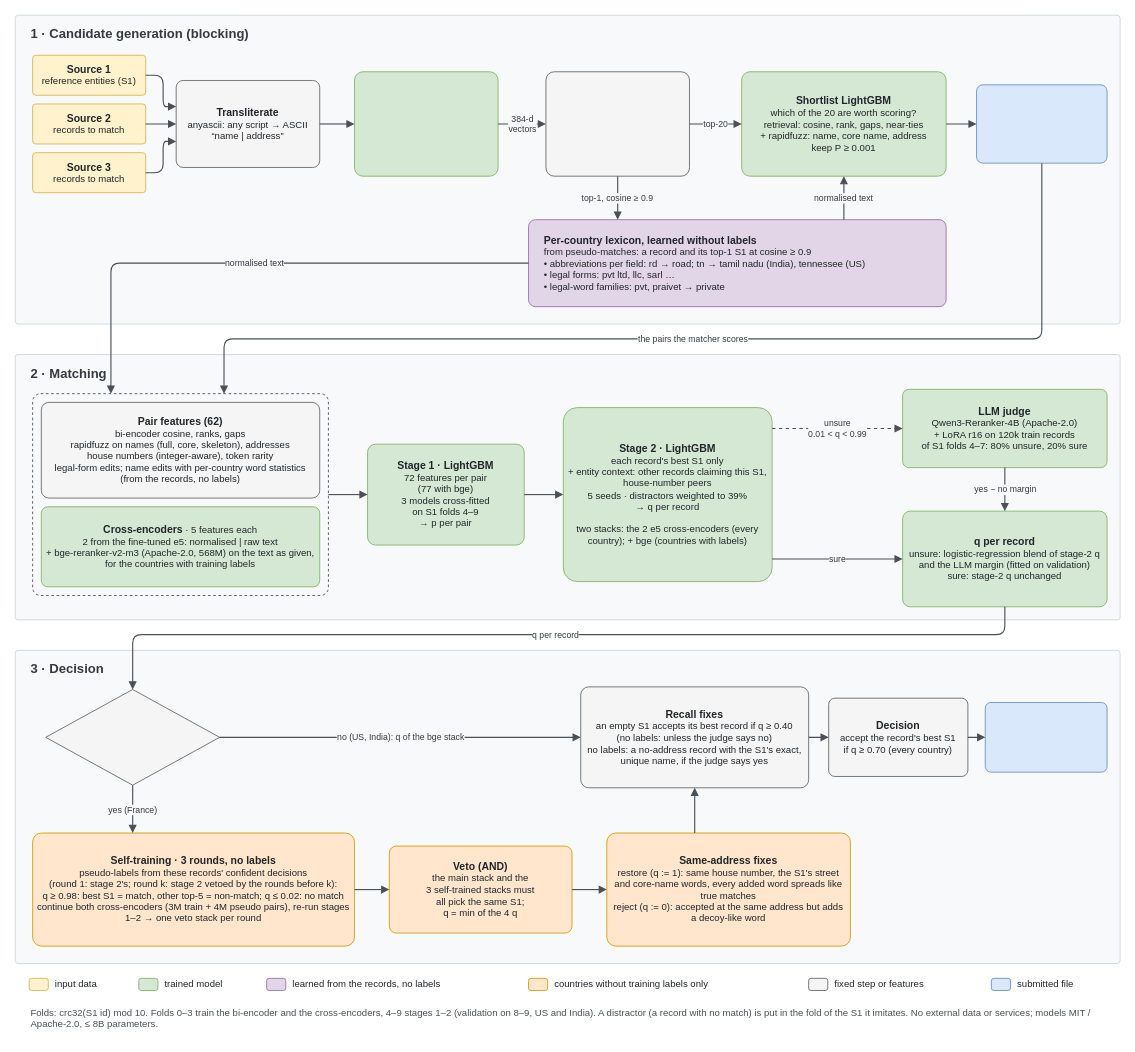
Some shapes in this 1135 by 1052 pixel diagram are drawn without their labels. Each missing label, with the box of its shape:
candidate_pairs.tsv 12.76M pairs 7.37 per S1 1.28 per S2/S3 record: (976, 84, 1107, 163)
Country without training labels? (found from the data): (45, 689, 220, 785)
e5 bi-encoder multilingual-e5-small (MIT, 118M) fine-tuned on S1 folds 0–3: (354, 71, 498, 176)
FAISS HNSW one index per country M 32 · efSearch 512 top-20 S1 per S2/S3 record: (545, 71, 689, 176)
matching_results.tsv one row per S1: (984, 702, 1107, 772)
